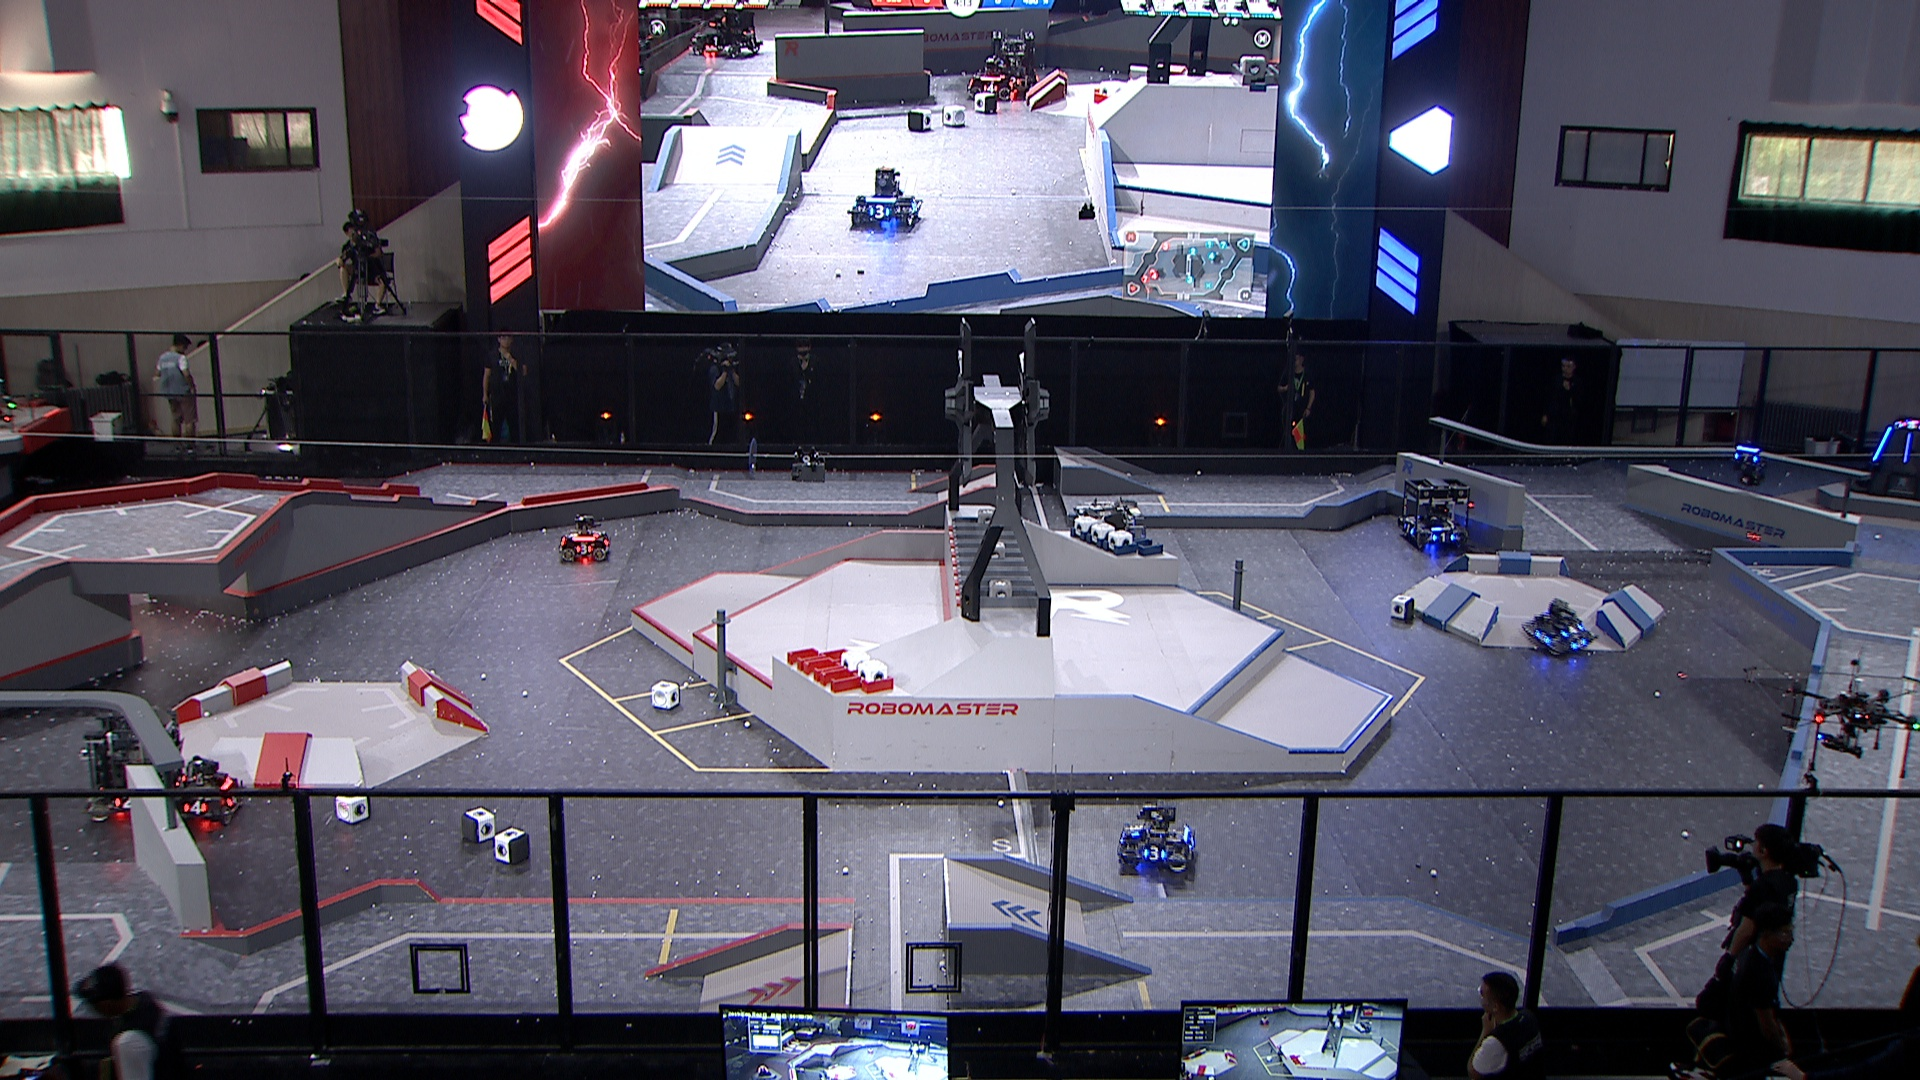armor: (1873, 427, 1898, 463), (181, 799, 208, 816), (1141, 845, 1168, 861), (1733, 451, 1760, 465), (1903, 433, 1915, 465), (1560, 622, 1584, 638), (1429, 531, 1457, 545), (1534, 626, 1552, 646), (111, 796, 135, 811), (574, 542, 595, 556), (1126, 822, 1145, 837), (223, 794, 243, 807), (1571, 637, 1588, 651), (1403, 522, 1416, 535)
base: (1851, 418, 1920, 502)
car: (80, 709, 186, 822), (1067, 498, 1150, 585), (1116, 800, 1196, 874), (1396, 477, 1472, 551), (167, 756, 244, 825), (1523, 599, 1598, 661), (556, 516, 611, 564)
ignore: (847, 166, 923, 229), (688, 8, 766, 58), (989, 26, 1040, 94), (964, 57, 1021, 104), (1898, 418, 1920, 433)
watcher: (1731, 446, 1768, 488)
